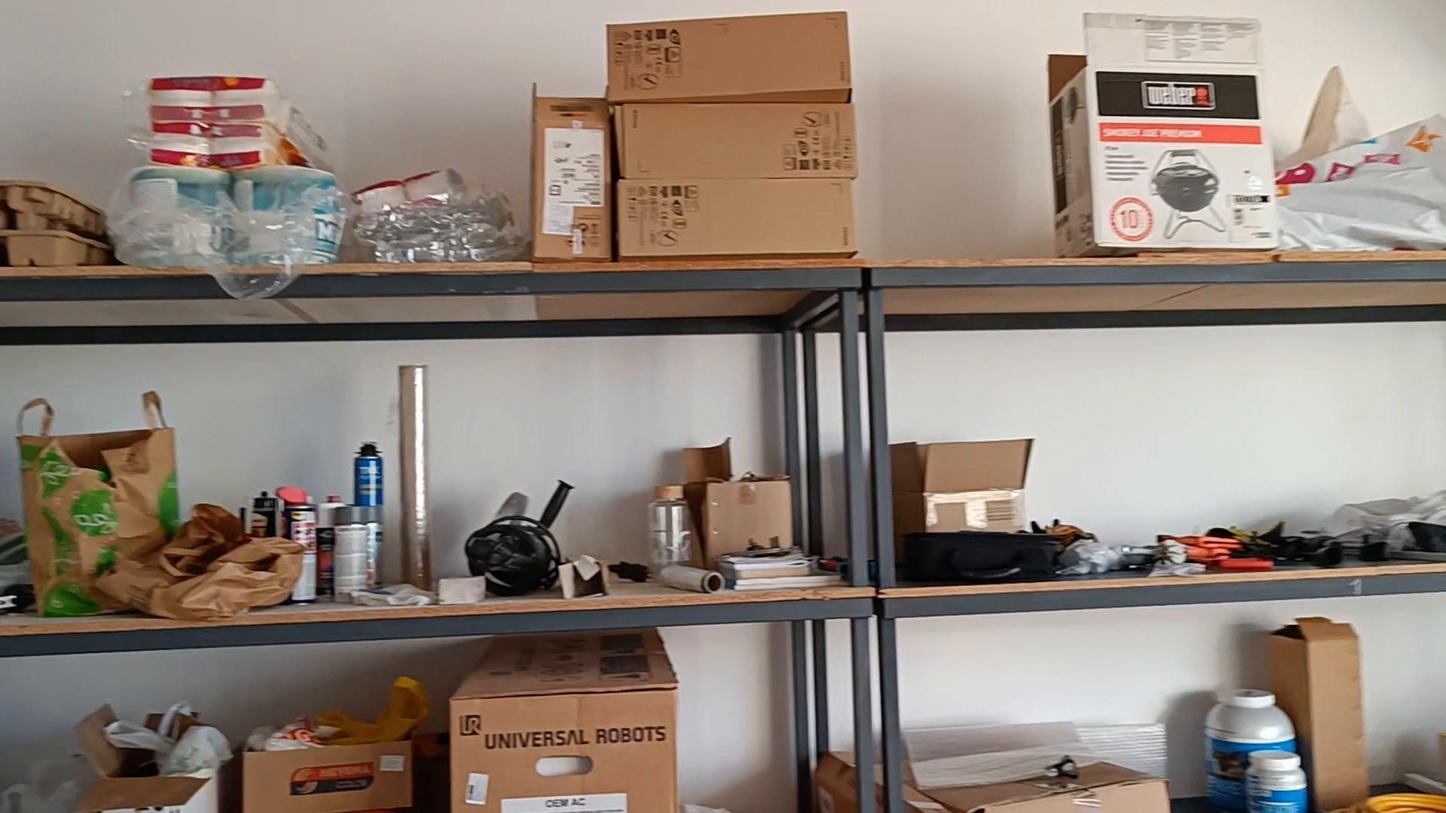wall: (887, 320, 1445, 543), (4, 4, 596, 211), (432, 341, 778, 539), (3, 341, 392, 491), (850, 0, 1043, 251), (902, 614, 1263, 720), (682, 632, 791, 812)
